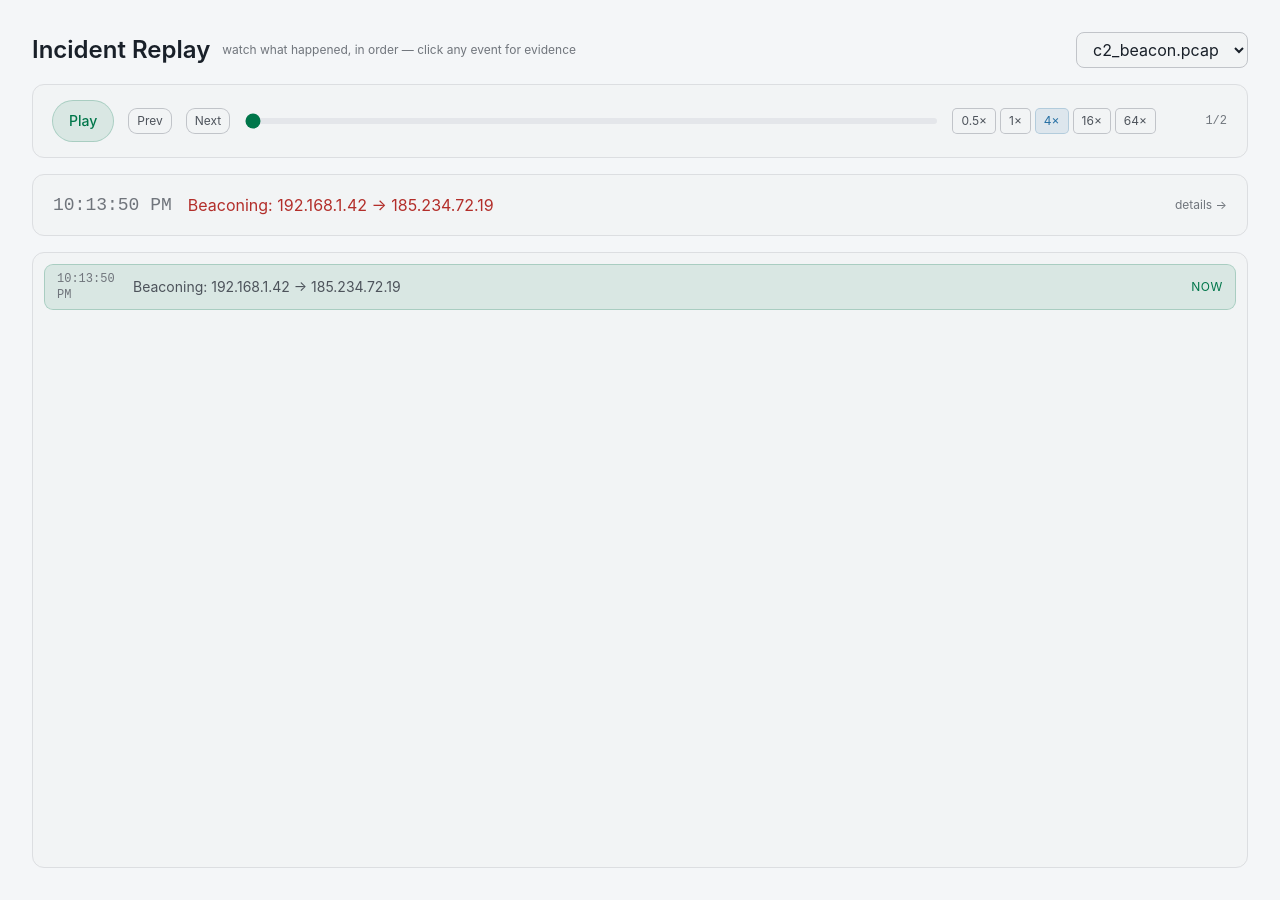
Test: ReplayPage › Next advances the position counter
Click the button "Next" at (208, 121), box [187,109,229,133]
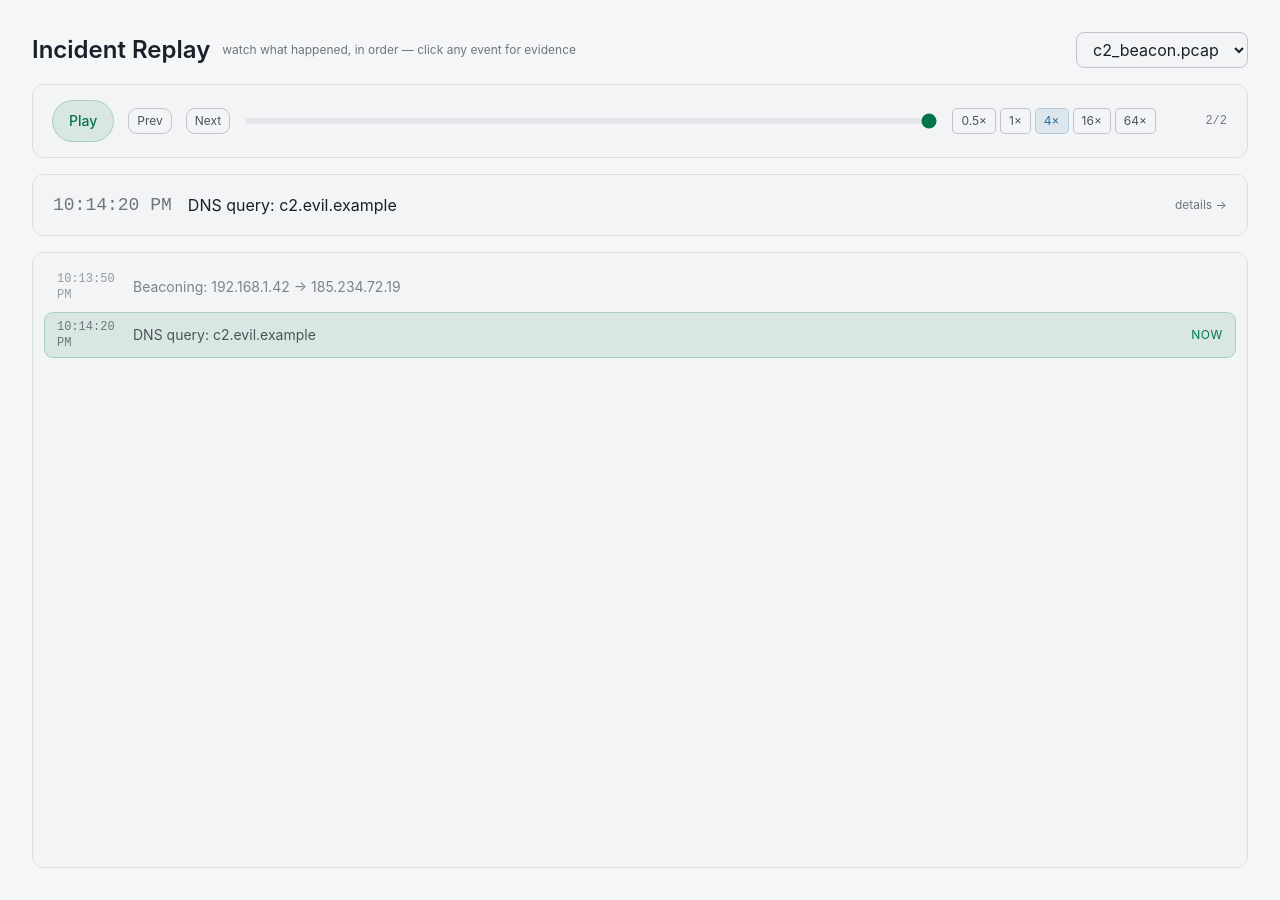
Expected: the text "2/2" is shown, [1205,114,1227,128]
